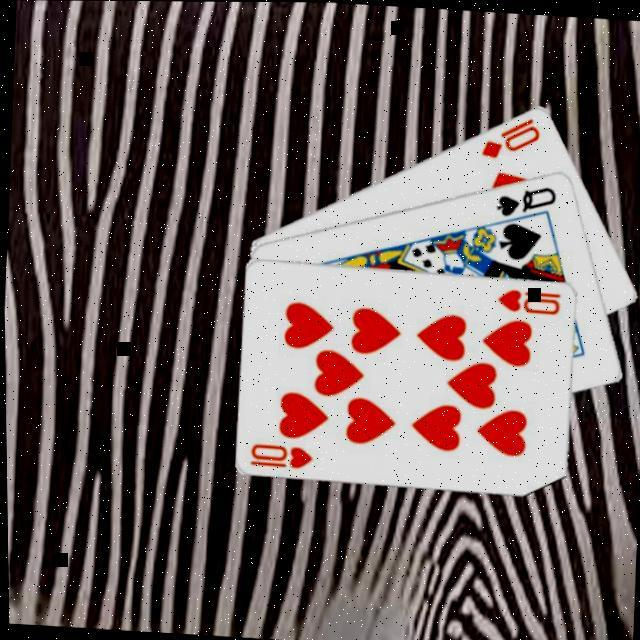10D: (476, 110, 543, 161)
10H: (492, 282, 562, 316), (246, 438, 314, 472)
QS: (491, 178, 559, 220)
